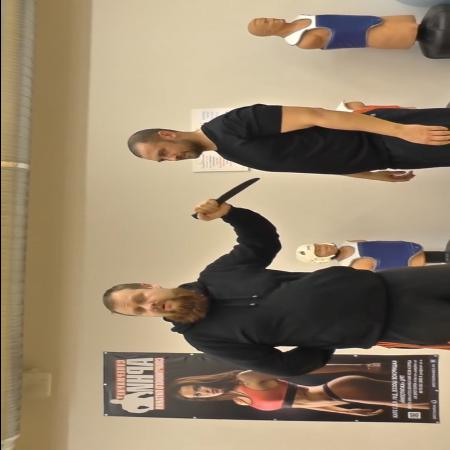long weapon: (188, 176, 262, 222)
